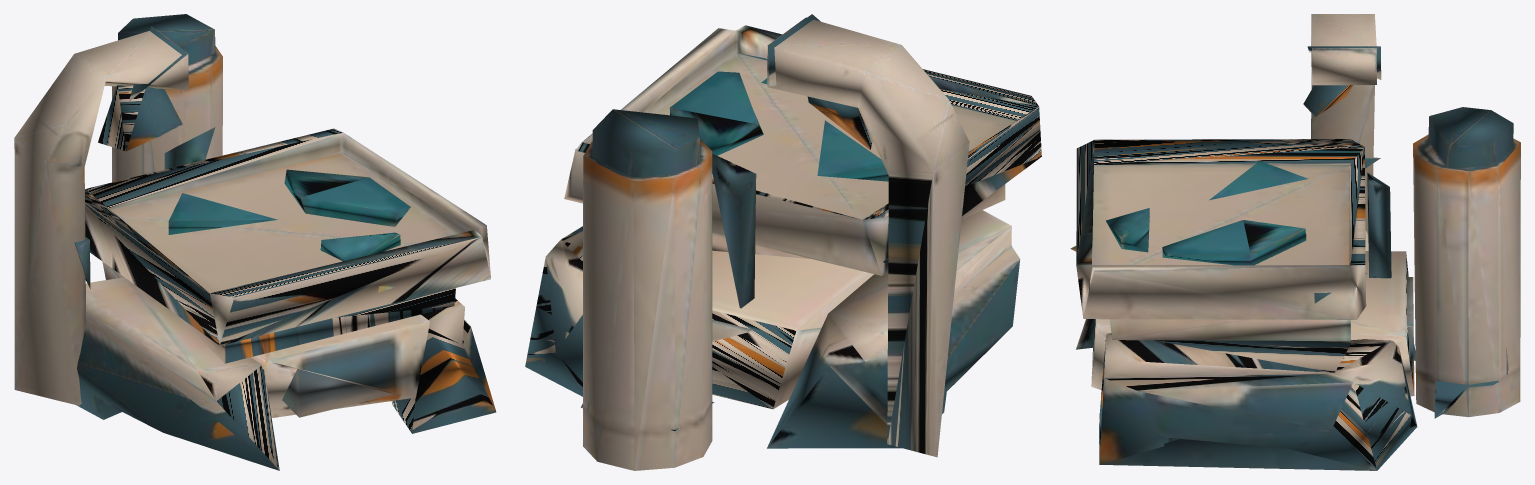
Rendered from source_energy-lod1.6d4ababa412d.glb.
3 renders of one model, left to right at view 1: azimuth 30°, elevation 25°; view 2: azimuth 150°, elevation 25°; view 3: azimuth 270°, elevation 25°, orthographic. The views are drawn at different scales.
Parts seen in each view (by area): view 1: geometry_0; view 2: geometry_0; view 3: geometry_0.
Boxes of the visible parts, x1,y1,x2,y2 form: geometry_0: (14,14,496,470); geometry_0: (525,14,1041,470); geometry_0: (1070,14,1520,470).
Size of the model in its own units: 0.8949 by 0.7881 by 0.995.
Materials: 1 (1 with a texture image).
